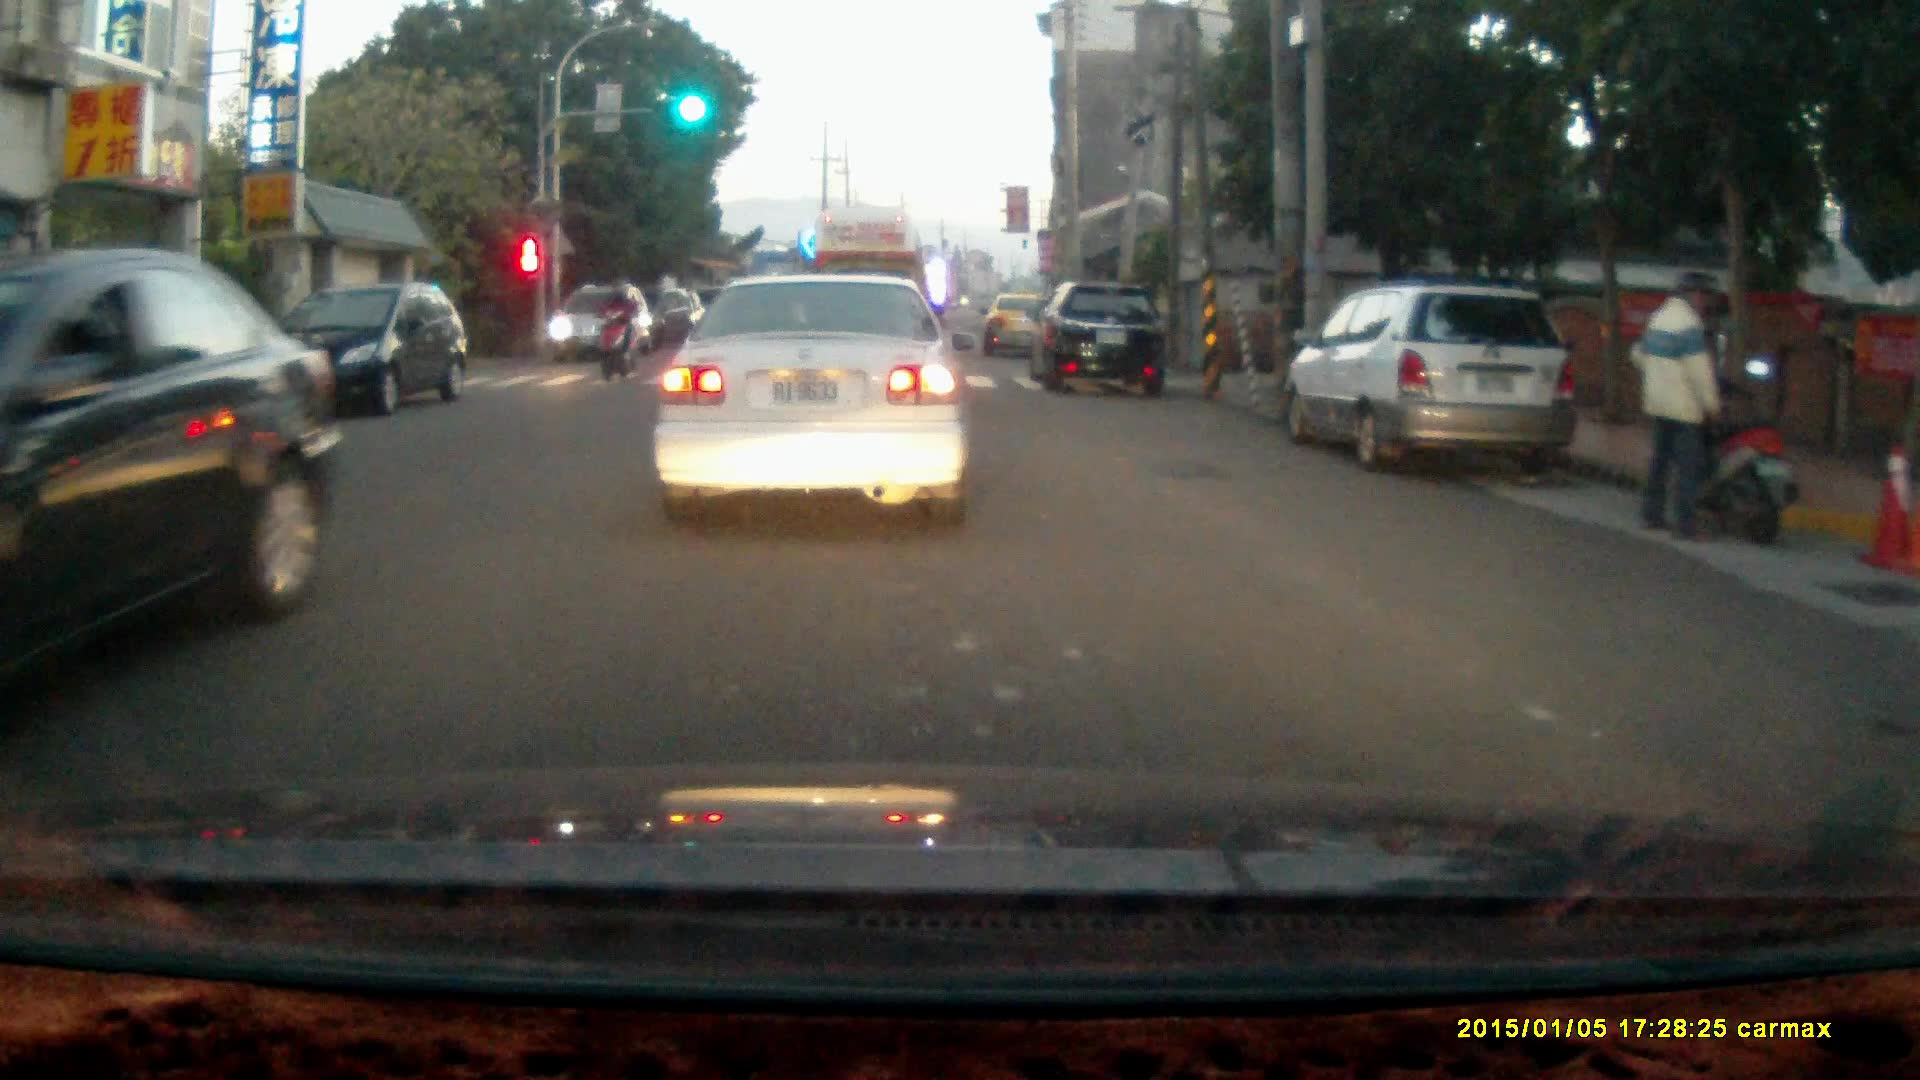pedestrian: (1628, 268, 1719, 542)
rider: (593, 277, 633, 378)
vehicle: (1, 245, 356, 703), (652, 272, 973, 525), (1295, 283, 1577, 477), (812, 204, 930, 366), (1030, 278, 1174, 394), (550, 282, 654, 357), (977, 294, 1070, 364)
